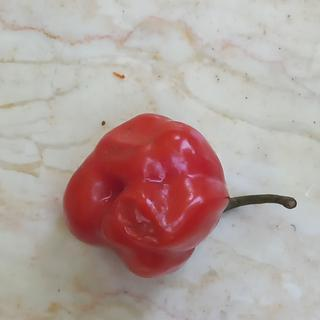Grade-B: (58, 107, 234, 280)
